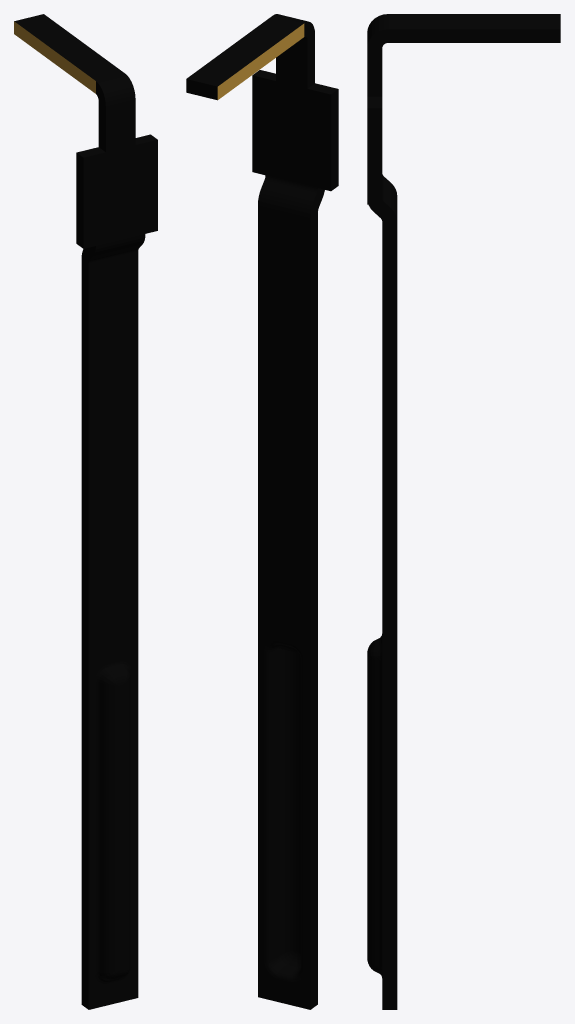
Rendered from USB-A Right Angle Solder Plug.obj.
The picture shows the model from 3 angles, left to right: view 1: azimuth 30°, elevation 25°; view 2: azimuth 150°, elevation 25°; view 3: azimuth 270°, elevation 25°; orthographic projection. The views are drawn at different scales.
Parts seen in each view (by area): view 1: USB-A_Right_Angle_Solder_Plug; view 2: USB-A_Right_Angle_Solder_Plug; view 3: USB-A_Right_Angle_Solder_Plug.
Boxes of the visible parts, left/top/right/bottom form: USB-A_Right_Angle_Solder_Plug: left=14, top=14, right=157, bottom=1009; USB-A_Right_Angle_Solder_Plug: left=186, top=14, right=338, bottom=1009; USB-A_Right_Angle_Solder_Plug: left=367, top=14, right=560, bottom=1009.
Size of the model in its own units: 0.00143 by 0.017 by 0.00306.
